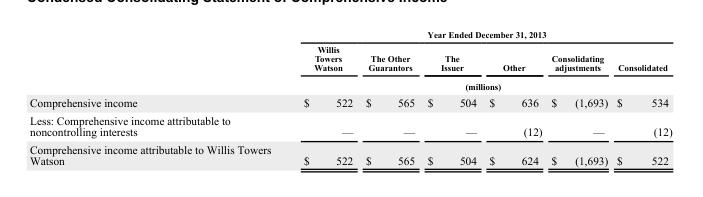table: (29, 29, 671, 166)
table column: (29, 29, 286, 166), (286, 29, 358, 166), (546, 29, 611, 166), (482, 29, 546, 166), (358, 29, 420, 166), (420, 29, 482, 166), (611, 29, 671, 166)
table column header: (29, 29, 671, 93)
table row: (29, 41, 671, 76), (29, 110, 671, 139), (29, 139, 671, 166), (29, 76, 671, 93), (29, 93, 671, 110), (29, 29, 671, 41)
table spanning cell: (286, 29, 671, 41), (286, 41, 358, 93), (546, 41, 611, 93), (358, 41, 420, 93), (611, 41, 671, 93), (420, 76, 546, 93)
